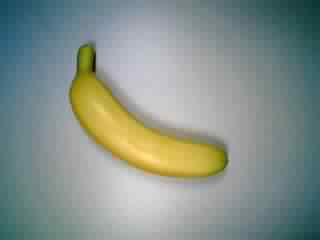banana: (67, 44, 232, 183)
